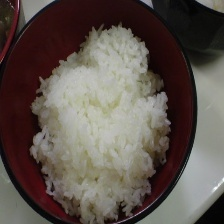rice: (30, 23, 171, 224)
